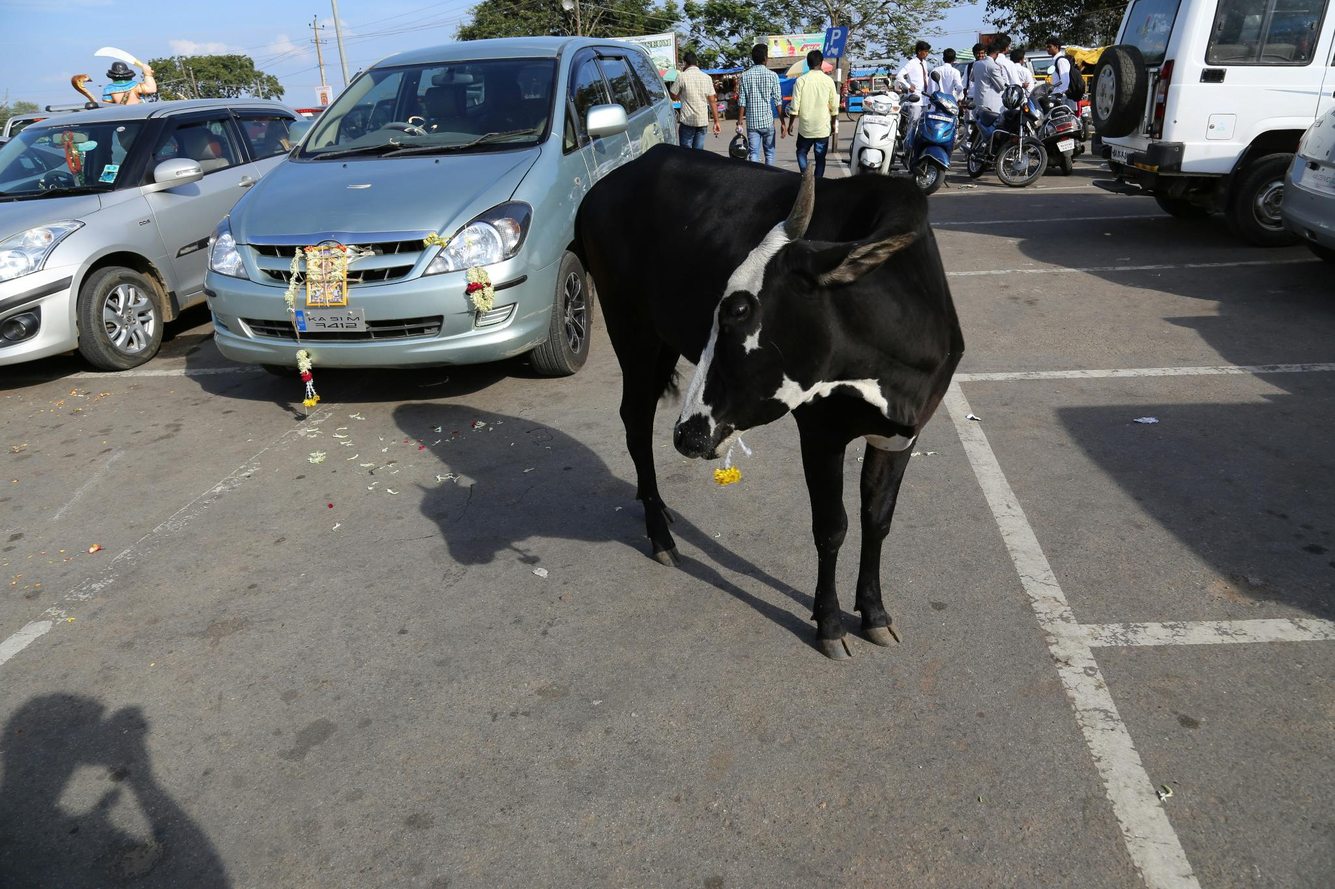car: (223, 58, 580, 393), (4, 120, 197, 362), (1098, 0, 1335, 180)
pedestrian: (671, 50, 720, 142), (745, 45, 784, 156), (804, 55, 833, 158), (976, 42, 1008, 122), (904, 38, 932, 120), (1045, 37, 1073, 106), (941, 48, 966, 96)
